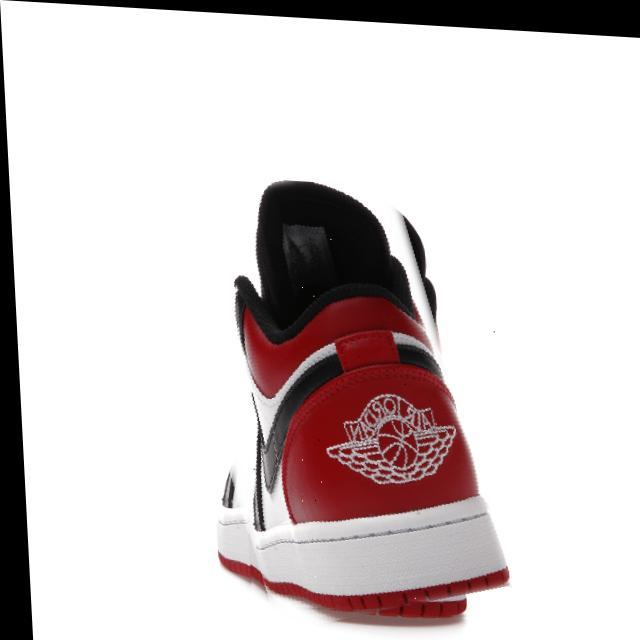J1_MateComp: (215, 178, 511, 620)
J1_ShoeLogo: (325, 391, 457, 486)
J1_StitchPattern: (240, 327, 453, 532), (215, 497, 511, 619), (243, 344, 343, 532), (254, 508, 492, 550), (218, 391, 283, 533), (264, 581, 468, 620), (246, 390, 270, 533), (219, 465, 237, 509)
